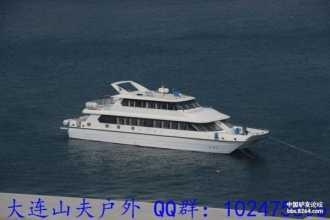yacht: (60, 73, 272, 157)
